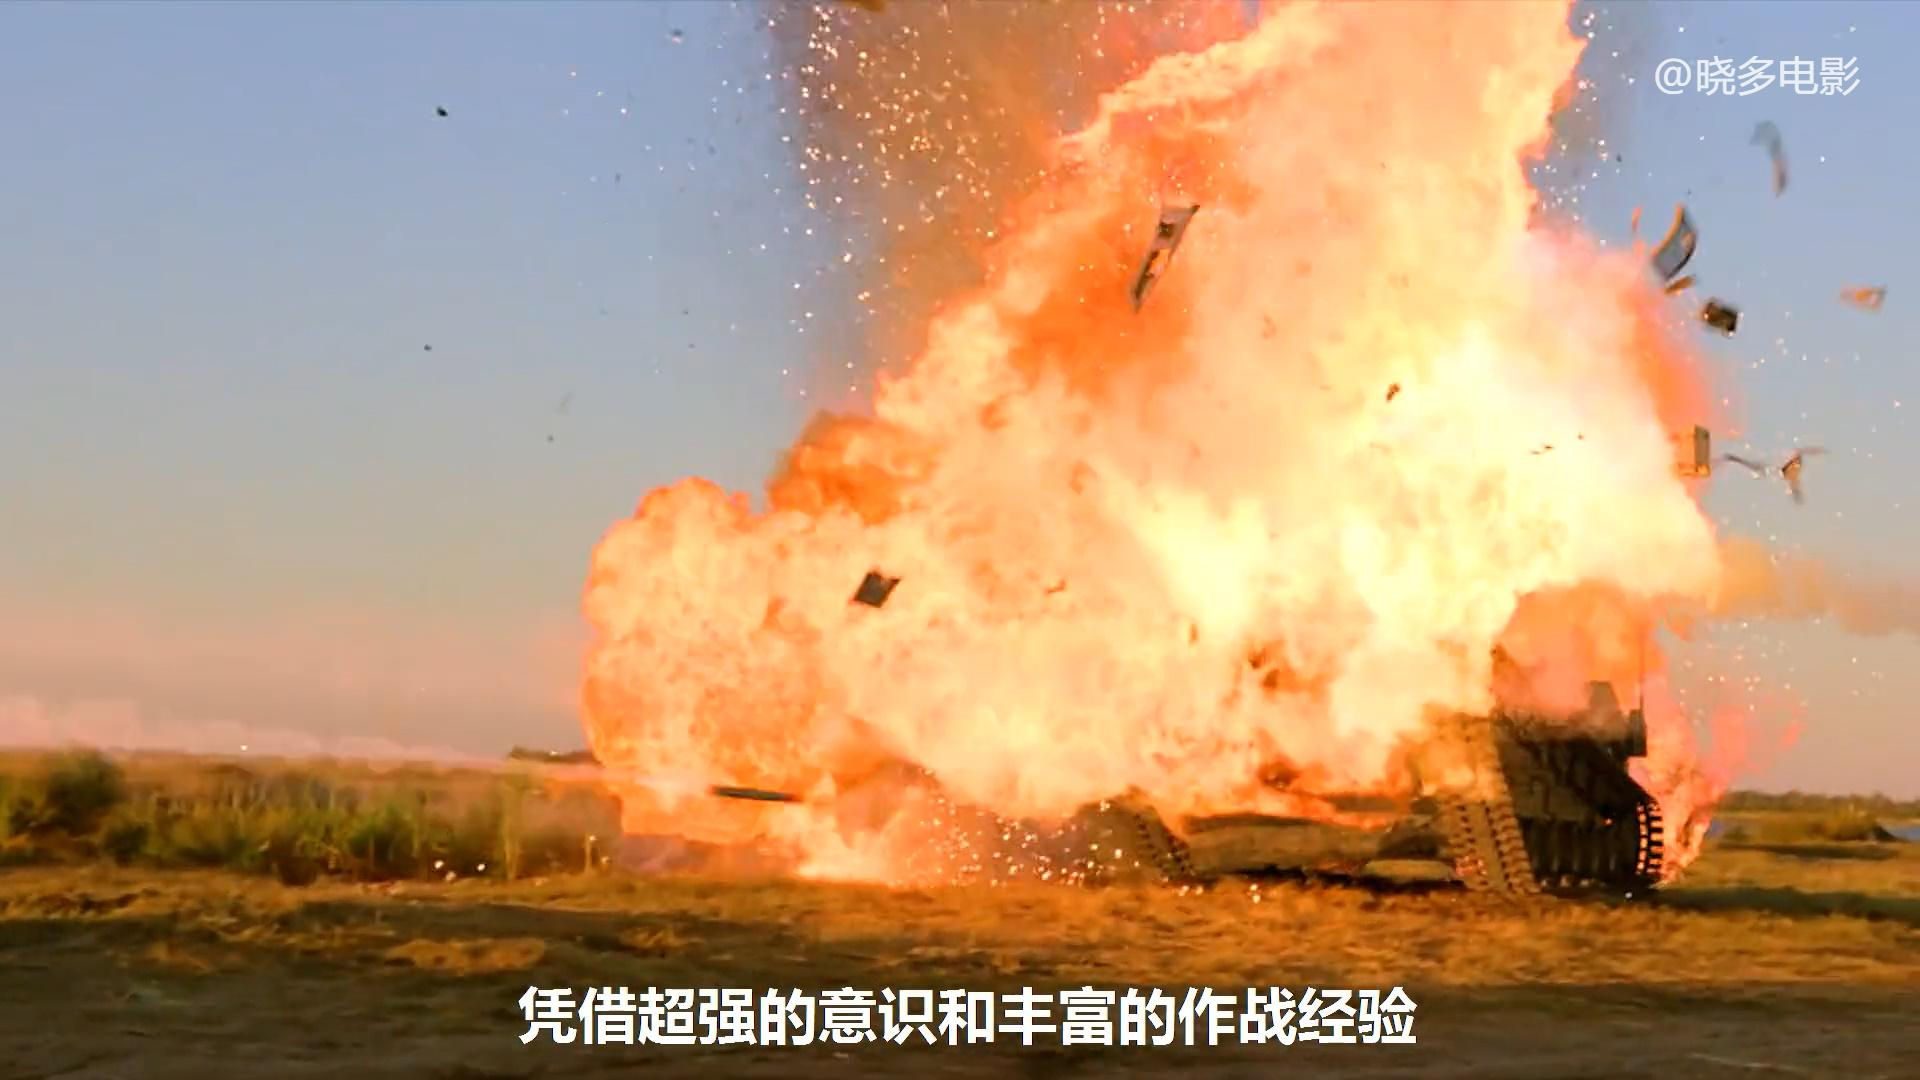fire: (575, 0, 1811, 889)
